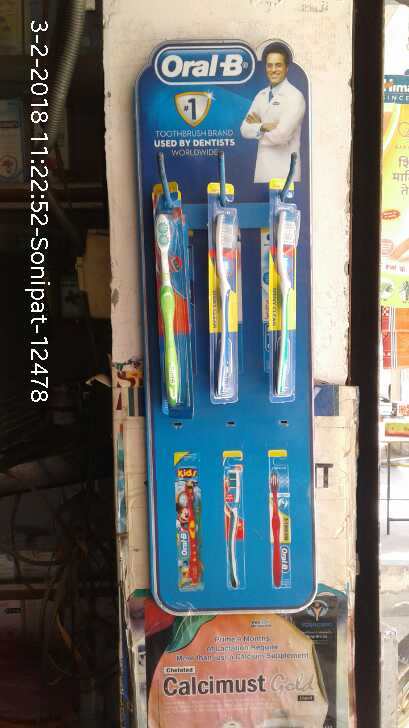oralb: (201, 219, 251, 403), (150, 215, 184, 413), (281, 211, 313, 415)
